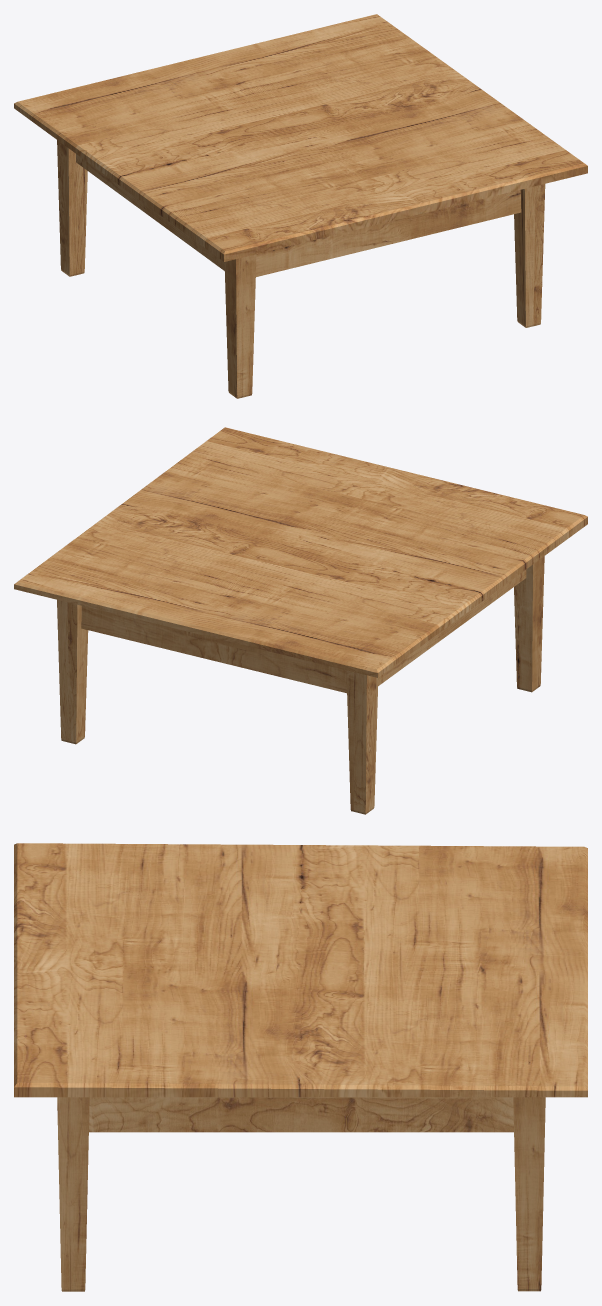
File: Wood Table 01.fbx
3 views of the same model, one above another, from view 1: azimuth 30°, elevation 25°; view 2: azimuth 150°, elevation 25°; view 3: azimuth 270°, elevation 25° (orthographic). The views are drawn at different scales.
Visible parts, largest first — view 1: Wood Table 01; view 2: Wood Table 01; view 3: Wood Table 01.
Part boxes in pixels (box(x1,y1,x2,y2)): Wood Table 01: box(14, 14, 587, 398); Wood Table 01: box(14, 427, 587, 814); Wood Table 01: box(14, 843, 587, 1291).
Bounding box in the file's own units: 96.52 × 42.18 × 96.52.
